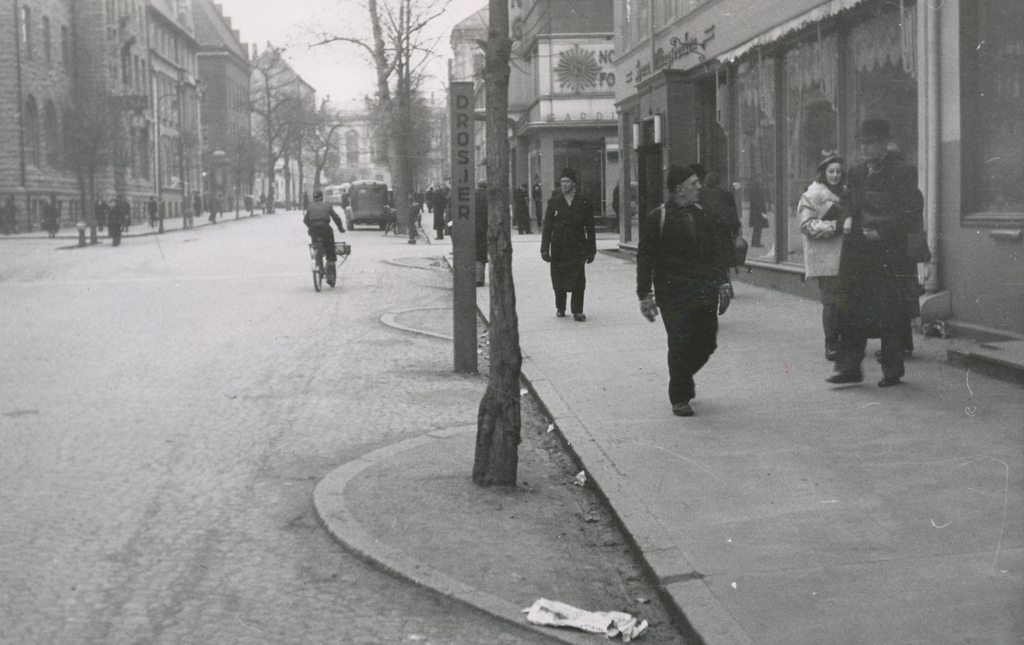Tree: (288, 0, 451, 249), (231, 51, 327, 227)
